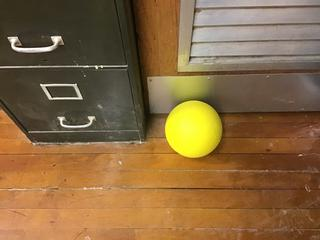power_cell: (160, 97, 243, 170)
